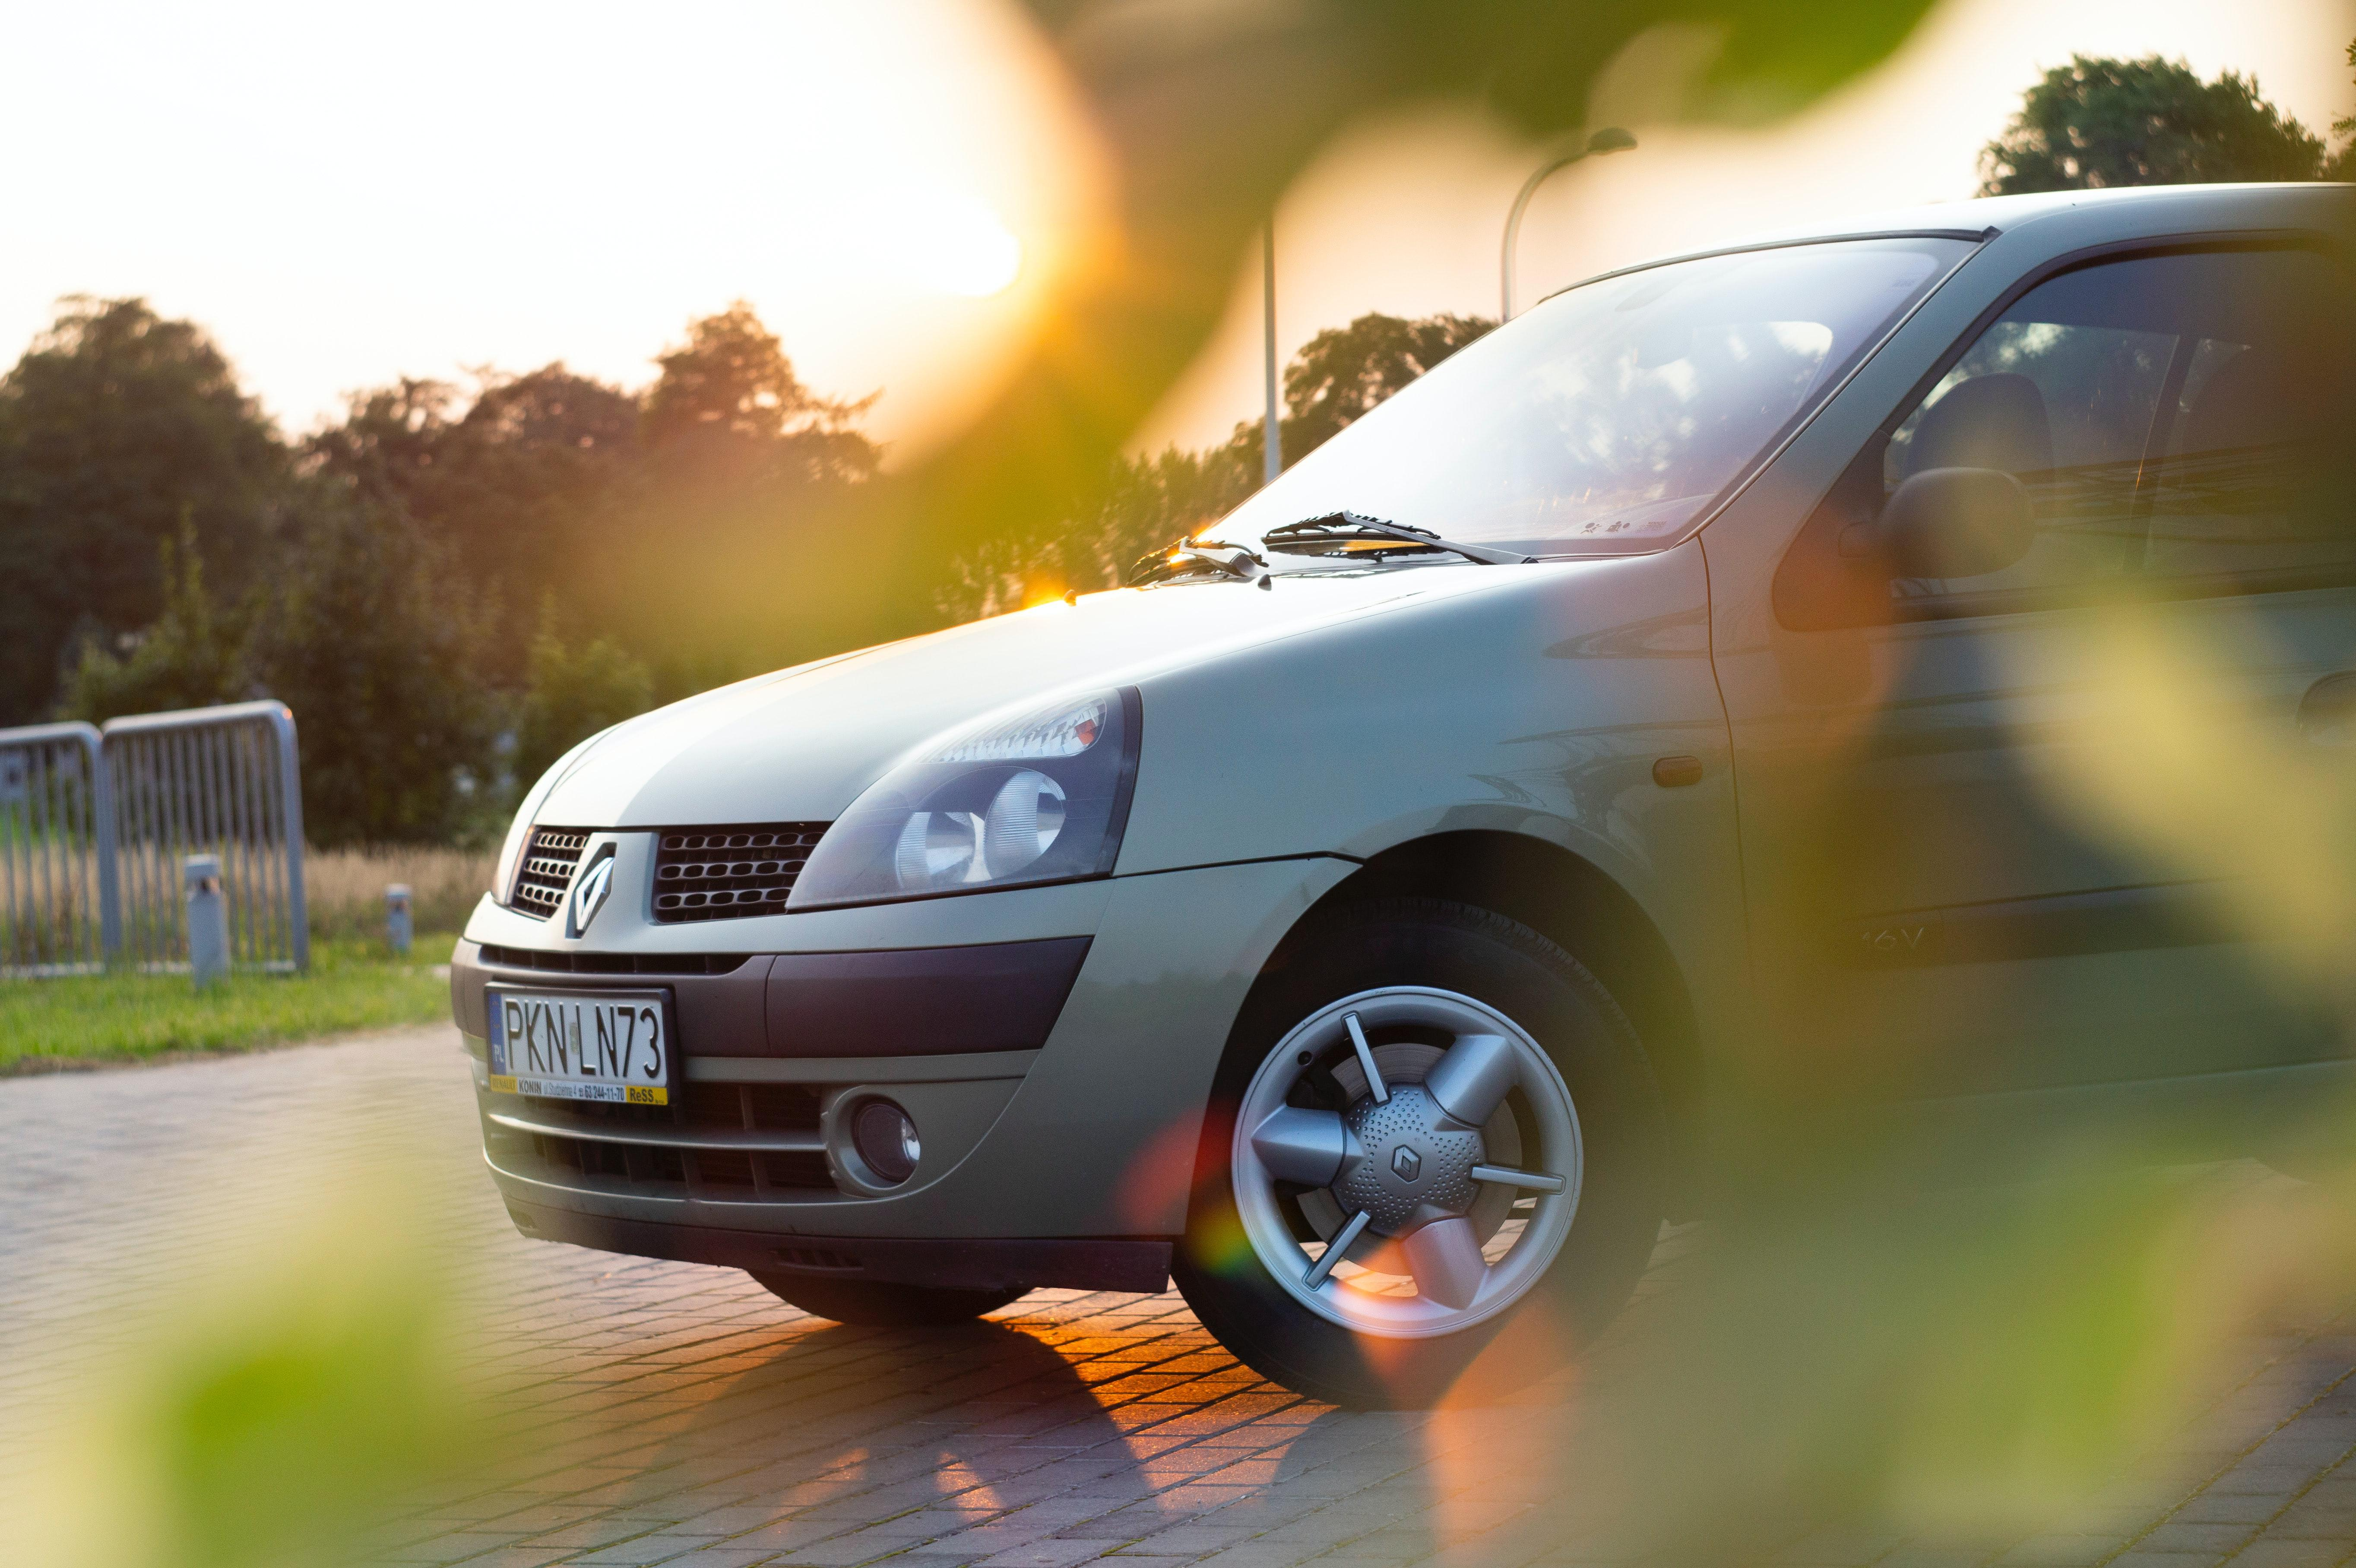Renault: (544, 817, 639, 952)
